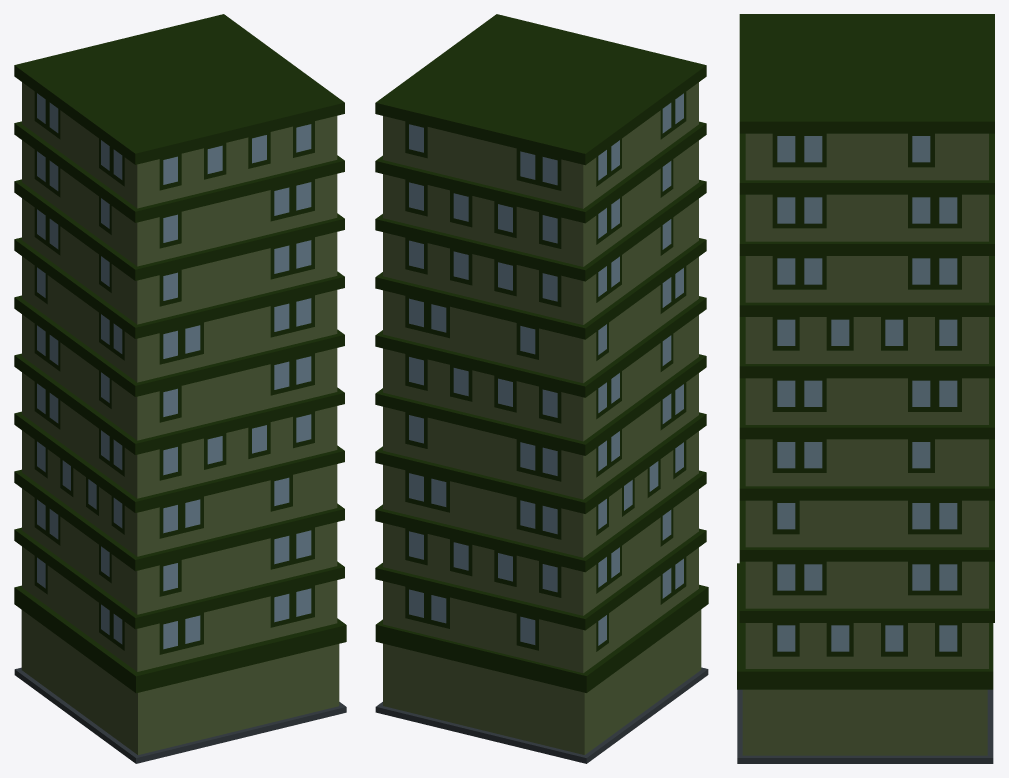
Rendered from sky green.fbx.
The picture shows the model from 3 angles, left to right: view 1: azimuth 30°, elevation 25°; view 2: azimuth 150°, elevation 25°; view 3: azimuth 270°, elevation 25°; orthographic projection. The views are drawn at different scales.
Parts seen in each view (by area): view 1: skyscraper green; view 2: skyscraper green; view 3: skyscraper green.
Part boxes in pixels (<box>): skyscraper green: <box>14,14,346,763</box>; skyscraper green: <box>375,14,708,763</box>; skyscraper green: <box>737,14,994,763</box>.
Bounding box in the file's own units: 7.61 × 21.04 × 7.65.
